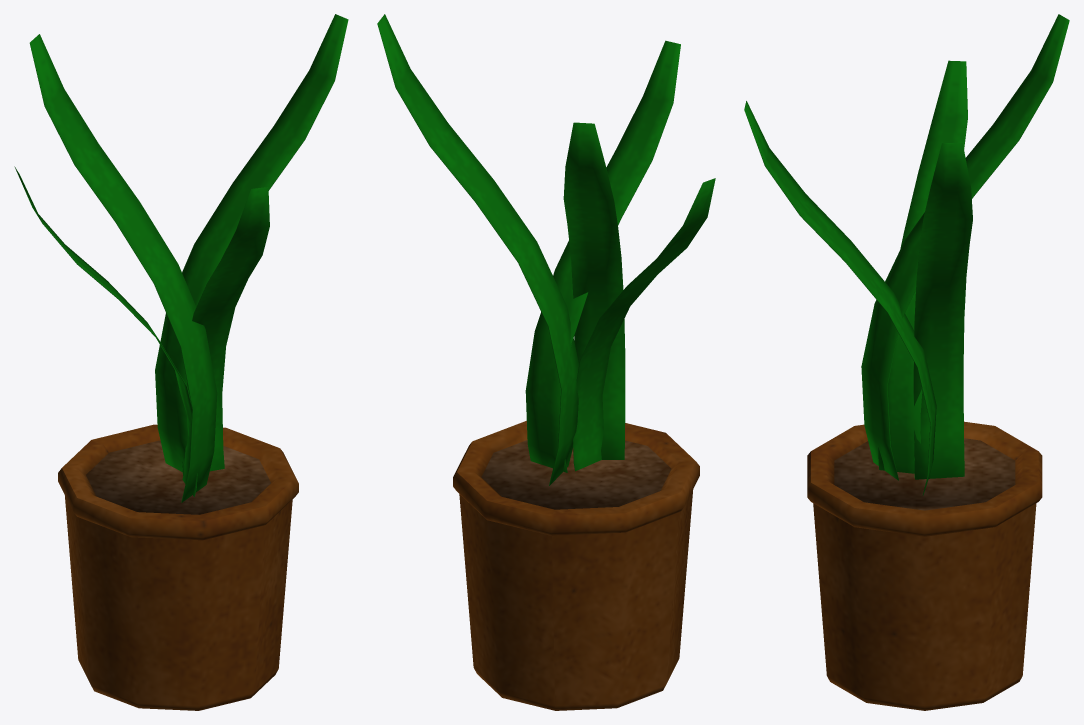
Rendered from planta.fbx.
The picture shows the model from 3 angles, left to right: view 1: azimuth 30°, elevation 25°; view 2: azimuth 150°, elevation 25°; view 3: azimuth 270°, elevation 25°; orthographic projection. The views are drawn at different scales.
Parts seen in each view (by area): view 1: Planta; view 2: Planta; view 3: Planta.
Boxes of the visible parts, bbox=[...] form: Planta: bbox=[14, 14, 348, 710]; Planta: bbox=[377, 14, 715, 710]; Planta: bbox=[744, 14, 1069, 710].
Size of the model in its own units: 81.37 by 144 by 68.94.
